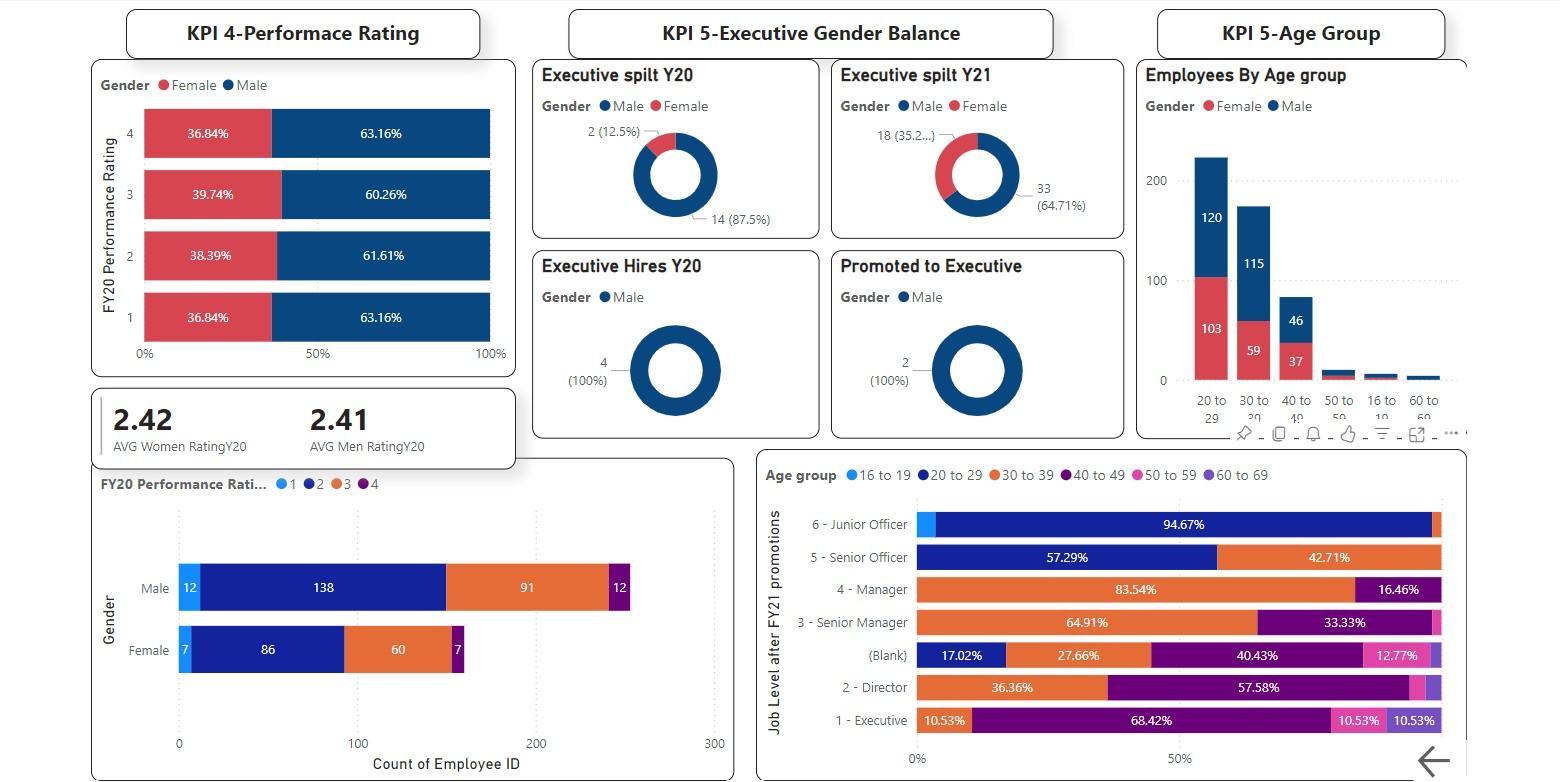

What the dashboard file says about the page in this screenshot:
{"tool":"powerbi","page":{"name":" page2","canvas":[1280,720],"ordinal":2},"visuals":[{"type":"donutChart","title":"Executive spilt Y20","fields":{"Category":["Pharma Group AG.Gender"],"Y":["CountNonNull(Backing 1.Employee ID)"]},"box":[410.9,46.3,266.9,166.9],"z":0,"group":"g1"},{"type":"hundredPercentStackedBarChart","fields":{"Category":["Pharma Group AG.FY20 Performance Rating"],"Y":["CountNonNull(Pharma Group AG.Employee ID)"],"Series":["Pharma Group AG.Gender"]},"box":[0,46.3,395.4,295.9],"z":0},{"type":"textbox","box":[32.3,0,329.5,46.3],"z":1000},{"type":"donutChart","title":"Executive spilt Y21","fields":{"Category":["Pharma Group AG.Gender"],"Y":["CountNonNull(Backing 1.Employee ID)"]},"box":[689.3,46.3,272.7,166.9],"z":1000,"group":"g1"},{"type":"donutChart","title":"Executive Hires Y20","fields":{"Category":["Pharma Group AG.Gender"],"Y":["CountNonNull(Backing 1.Employee ID)"]},"box":[410.9,224.5,266.9,175.1],"z":2000,"group":"g1"},{"type":"barChart","fields":{"Category":["Pharma Group AG.Gender"],"Series":["Pharma Group AG.FY20 Performance Rating"],"Y":["CountNonNull(Pharma Group AG.Employee ID)"]},"box":[0,417.9,598.8,301.5],"z":2000},{"type":"donutChart","title":"Promoted to Executive","fields":{"Category":["Pharma Group AG.Gender"],"Y":["CountNonNull(Backing 1.Employee ID)"]},"box":[689.3,224.5,272.7,175.1],"z":3000,"group":"g1"},{"type":"multiRowCard","fields":{"Values":["Backing 1.AVG Women Rating","Backing 1.AVG Men Rating"]},"box":[0,352,395.4,75.7],"z":3000},{"type":"textbox","box":[444.5,0,451.5,46.3],"z":4000},{"type":"textbox","box":[991.4,0,267.8,46.3],"z":5000},{"type":"columnChart","title":"Employees By Age group ","fields":{"Category":["Pharma Group AG.Age group"],"Y":["CountNonNull(Pharma Group AG.Employee ID)"],"Series":["Pharma Group AG.Gender"]},"box":[971.8,46.3,308.5,353.4],"z":6000},{"type":"hundredPercentStackedBarChart","fields":{"Category":["Pharma Group AG.Job Level after FY21 promotions"],"Series":["Pharma Group AG.Age group"],"Y":["CountNonNull(Pharma Group AG.Employee ID)"]},"box":[618.4,409.5,661.9,309.9],"z":7000},{"type":"group","id":"g1","title":"Group 1","box":[410.9,46.3,551.1,353.4],"z":8000},{"type":"actionButton","box":[1230.6,680.2,49.4,39.8],"z":9000}]}

Visuals, with their boxes on the page's 1280x720 design canvas (x1, y1, x2, y2). These are canvas units, not pixel positions in the 1560x782 screenshot, which may show the page scaled, cropped or inside an application window:
"Executive spilt Y20" donutChart: (x1=411, y1=46, x2=678, y2=213)
hundredPercentStackedBarChart - Pharma Group AG.FY20 Performance Rating x CountNonNull(Pharma Group AG.Employee ID): (x1=0, y1=46, x2=395, y2=342)
textbox: (x1=32, y1=0, x2=362, y2=46)
"Executive spilt Y21" donutChart: (x1=689, y1=46, x2=962, y2=213)
"Executive Hires Y20" donutChart: (x1=411, y1=224, x2=678, y2=400)
barChart - Pharma Group AG.Gender x Pharma Group AG.FY20 Performance Rating: (x1=0, y1=418, x2=599, y2=719)
"Promoted to Executive" donutChart: (x1=689, y1=224, x2=962, y2=400)
multiRowCard - Backing 1.AVG Women Rating x Backing 1.AVG Men Rating: (x1=0, y1=352, x2=395, y2=428)
textbox: (x1=444, y1=0, x2=896, y2=46)
textbox: (x1=991, y1=0, x2=1259, y2=46)
"Employees By Age group " columnChart: (x1=972, y1=46, x2=1280, y2=400)
hundredPercentStackedBarChart - Pharma Group AG.Job Level after FY21 promotions x Pharma Group AG.Age group: (x1=618, y1=410, x2=1280, y2=719)
"Group 1" group: (x1=411, y1=46, x2=962, y2=400)
actionButton: (x1=1231, y1=680, x2=1280, y2=720)
